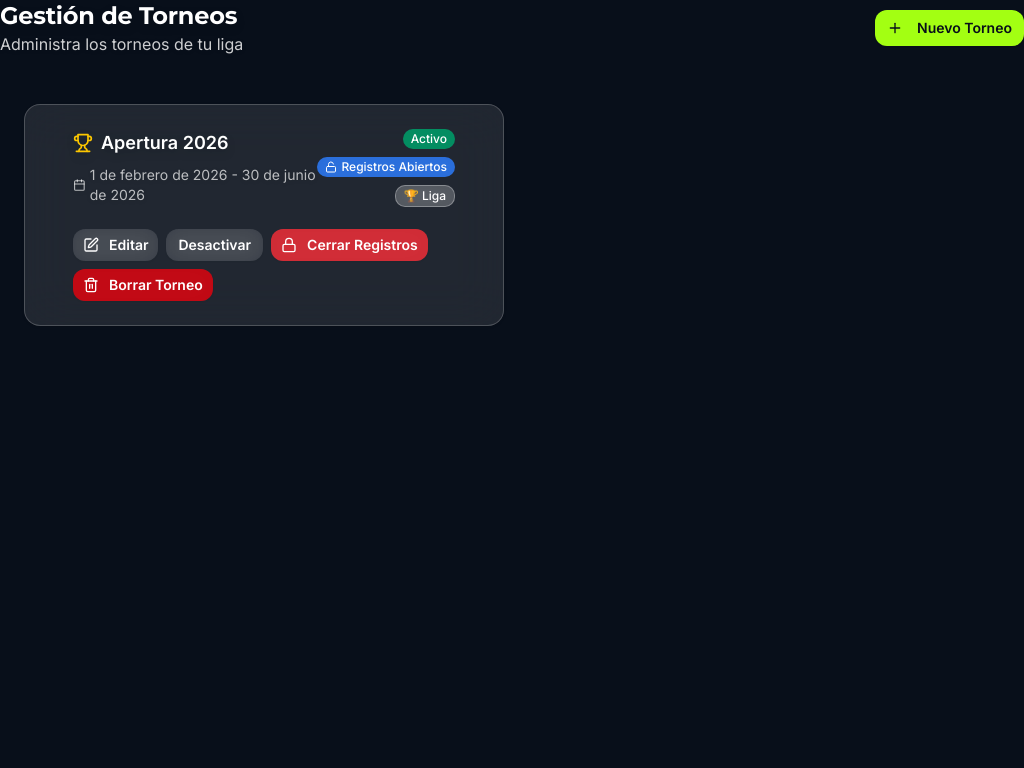
Test: Tournaments page › edits a tournament with PATCH /tournaments/{id}
Click the button "Editar" at (116, 245), box [73,229,158,261]
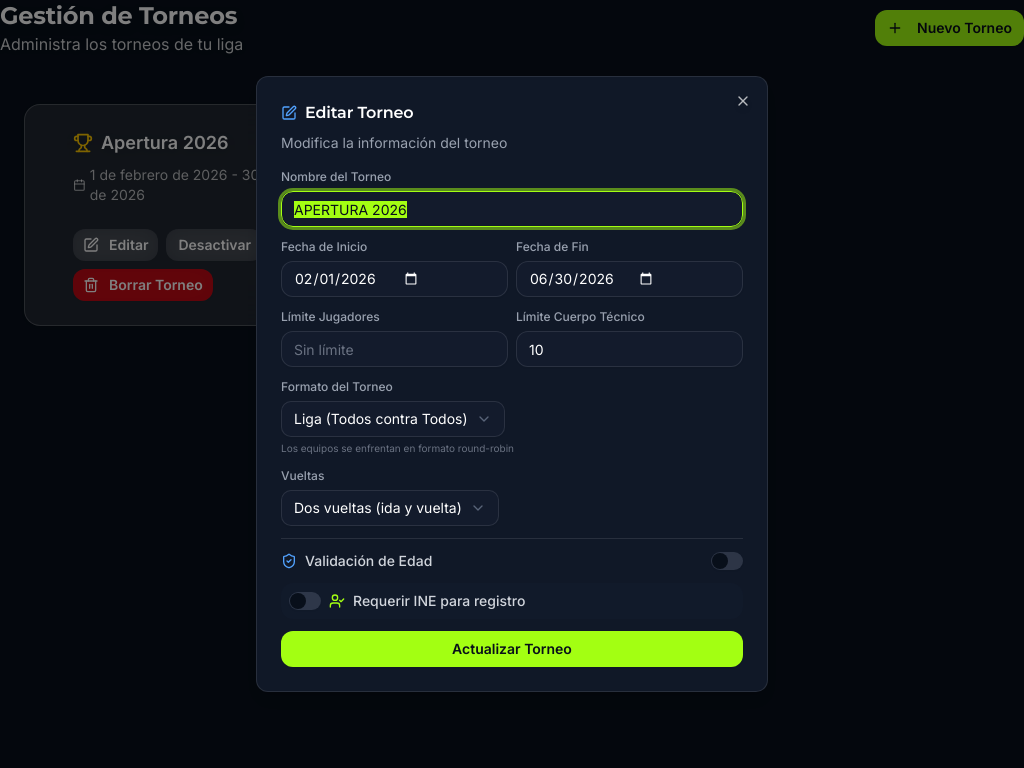
Check: the field labelled "Nombre del Torneo" holds "Apertura 2026"
Check: the date field labelled "Fecha de Inicio" holds "2026-02-01", box [281,261,508,297]
Replace the text in the field labelled "Nombre del Torneo" with "Apertura 2027" at (512, 209), box [281,191,743,227]
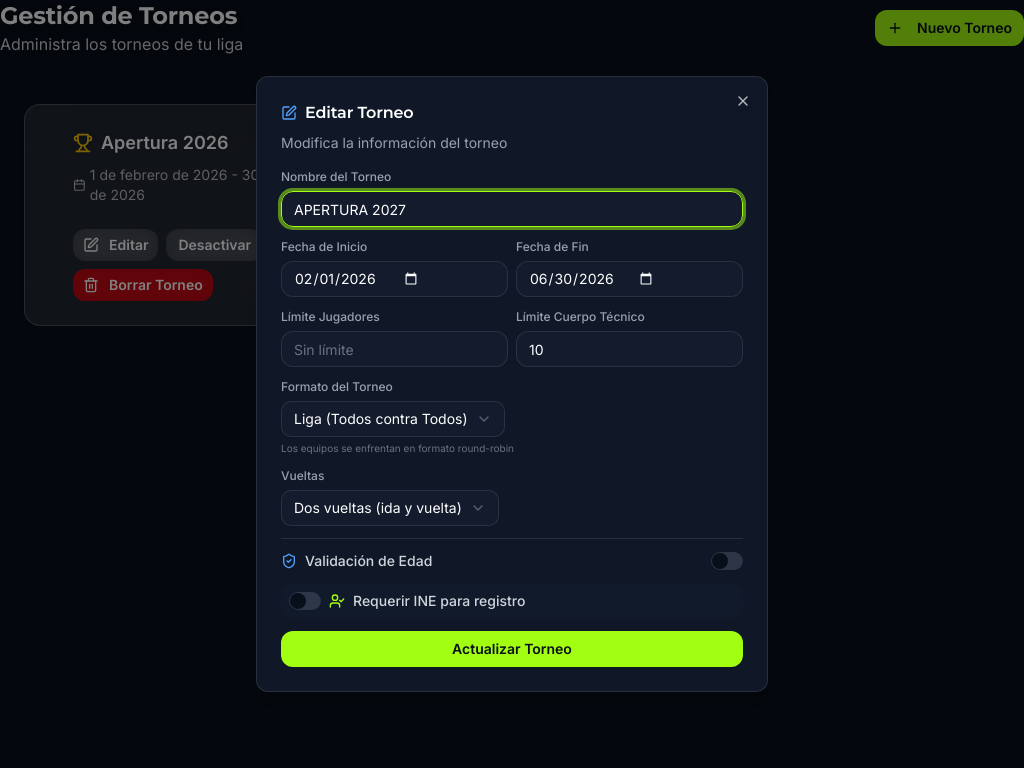
Click the button "Actualizar Torneo" at (512, 649), box [281,631,743,667]
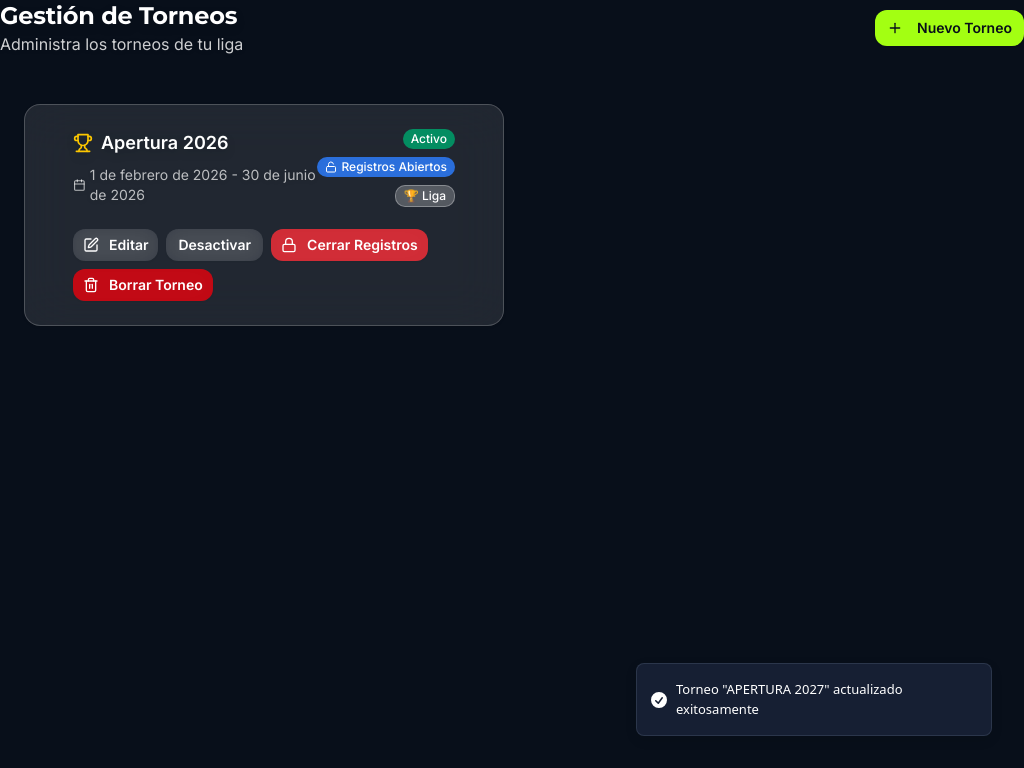
Check: the text "Torneo \"APERTURA 2027\" actualizado exitosamente" is shown, box [676,680,902,718]
